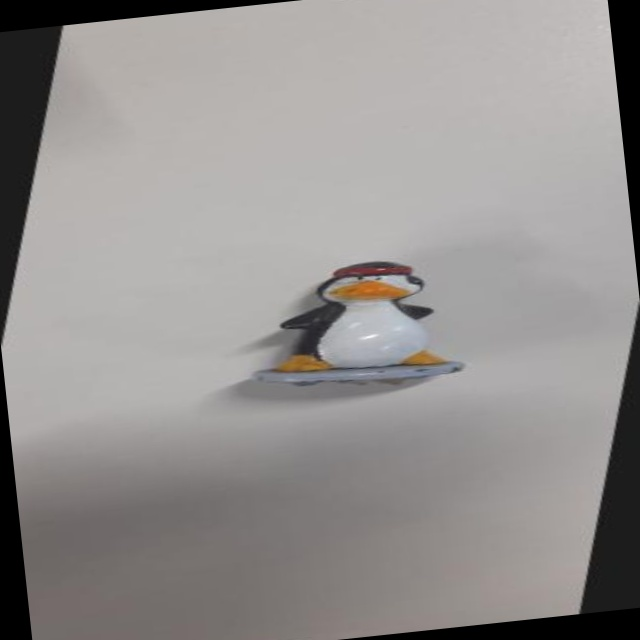Penguin: (204, 200, 535, 424)
